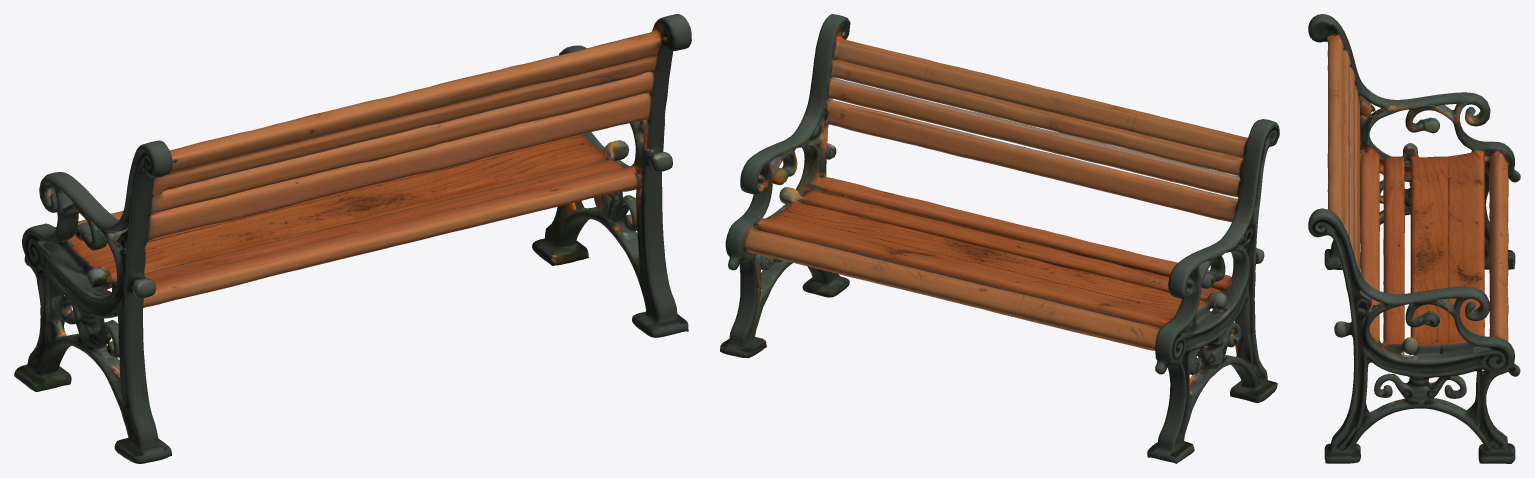
The model's file is Bench.fbx.
The picture shows the model from 3 angles, left to right: view 1: azimuth 30°, elevation 25°; view 2: azimuth 150°, elevation 25°; view 3: azimuth 270°, elevation 25°; orthographic projection. The views are drawn at different scales.
Visible parts, largest first — view 1: tripo_node_0e49cf0a; view 2: tripo_node_0e49cf0a; view 3: tripo_node_0e49cf0a.
Part boxes in pixels (left/top/right/bottom): tripo_node_0e49cf0a: left=14, top=14, right=691, bottom=463; tripo_node_0e49cf0a: left=720, top=14, right=1279, bottom=463; tripo_node_0e49cf0a: left=1308, top=14, right=1520, bottom=463.
Bounding box in the file's own units: 99.99 × 55.08 × 43.03.
Materials: 1 (1 with a texture image).
